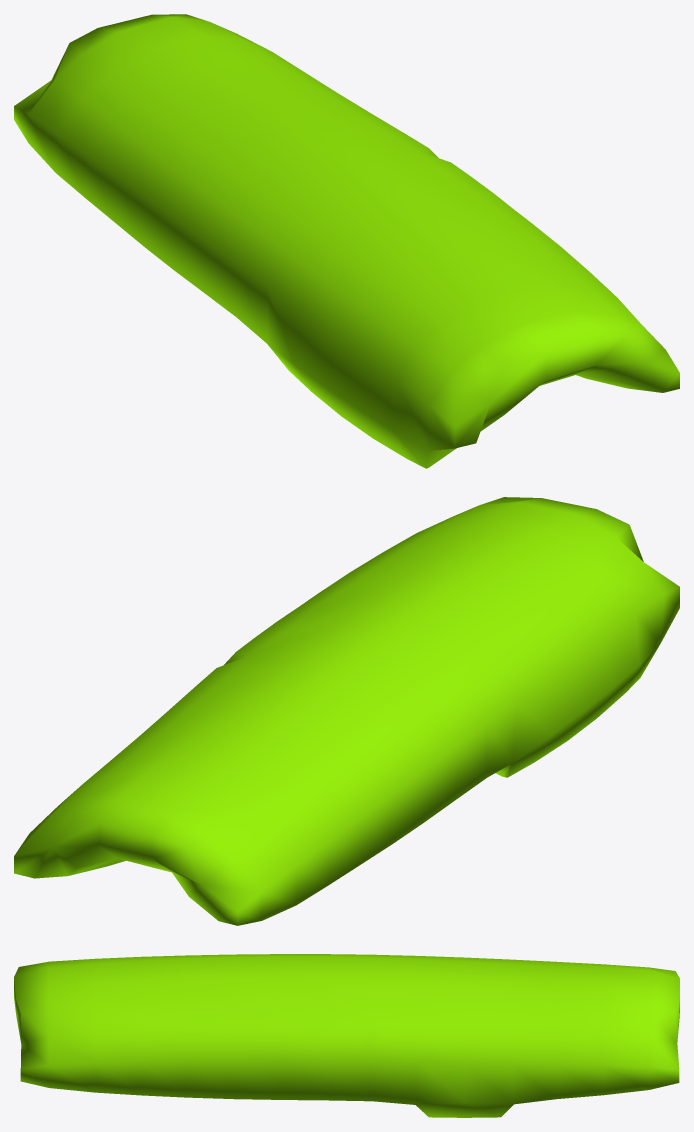
Rendered from veg02.glb.
3 views of the same model, one above another, from view 1: azimuth 30°, elevation 25°; view 2: azimuth 150°, elevation 25°; view 3: azimuth 270°, elevation 25° (orthographic). The views are drawn at different scales.
Visible parts, largest first — view 1: 小青菜1.002; view 2: 小青菜1.002; view 3: 小青菜1.002.
Part boxes in pixels (x1,y1,x2,y2): 小青菜1.002: (14, 14, 679, 468); 小青菜1.002: (14, 497, 679, 925); 小青菜1.002: (14, 954, 679, 1117).
Bounding box in the file's own units: 0.3304 × 0.1898 × 0.9982.
